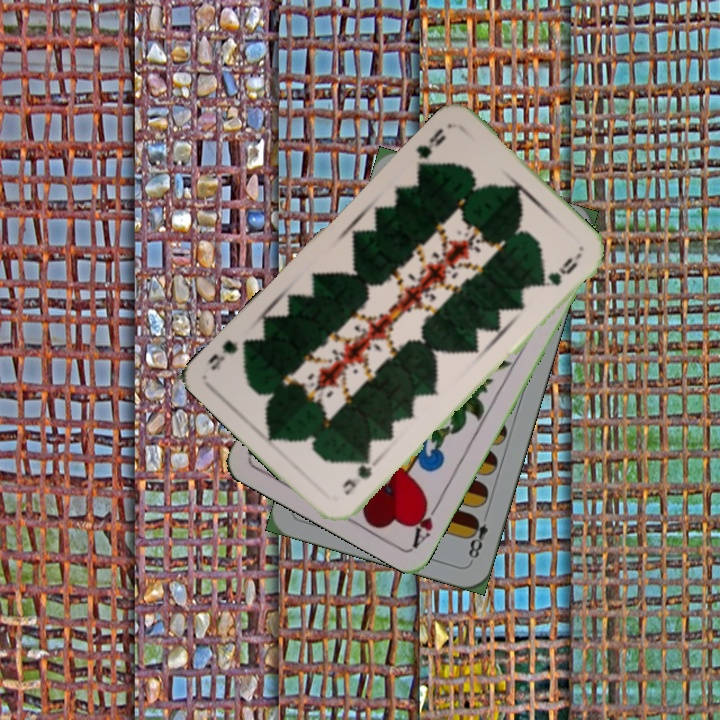E8: (464, 507, 492, 564)
G9: (411, 124, 449, 173), (338, 455, 380, 498)
HA: (408, 495, 444, 550)
